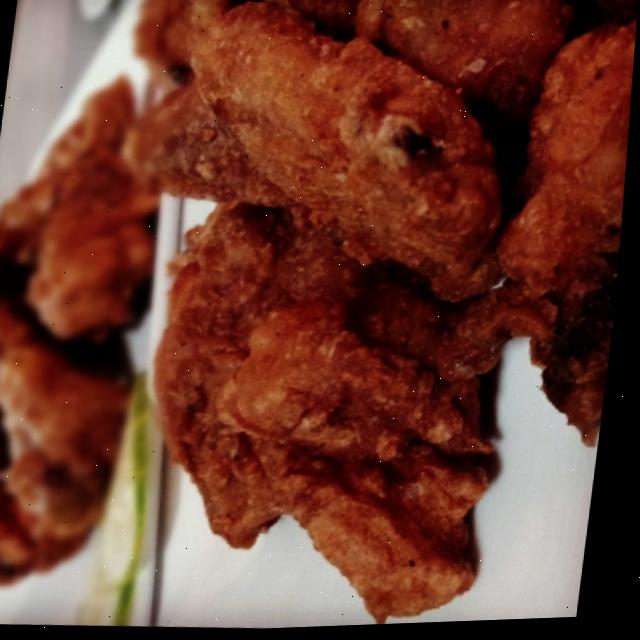鸡肉料理 含炸鸡: (0, 0, 640, 615)
